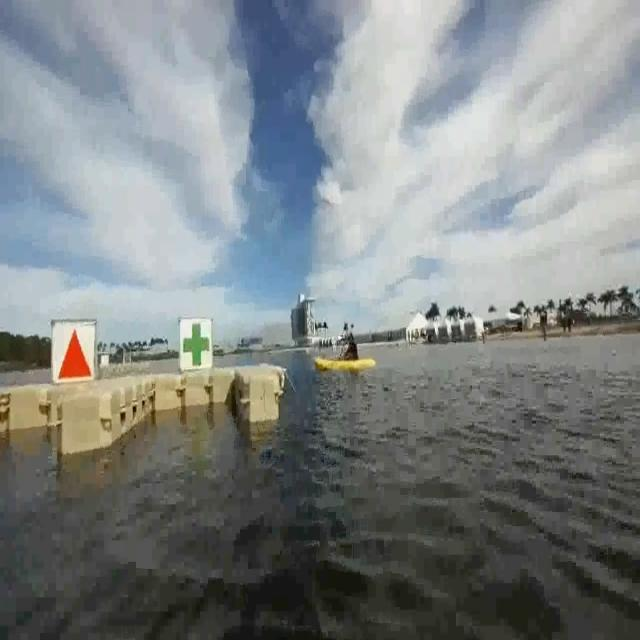blue-cross: (178, 320, 212, 374)
red-dot: (49, 322, 97, 386)
